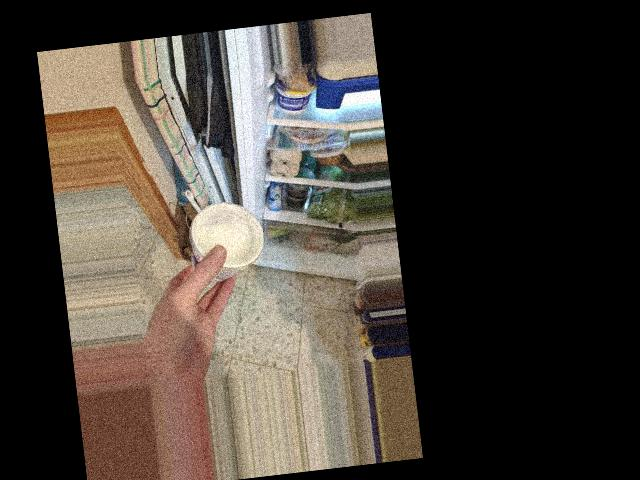cotage: (185, 194, 261, 286)
